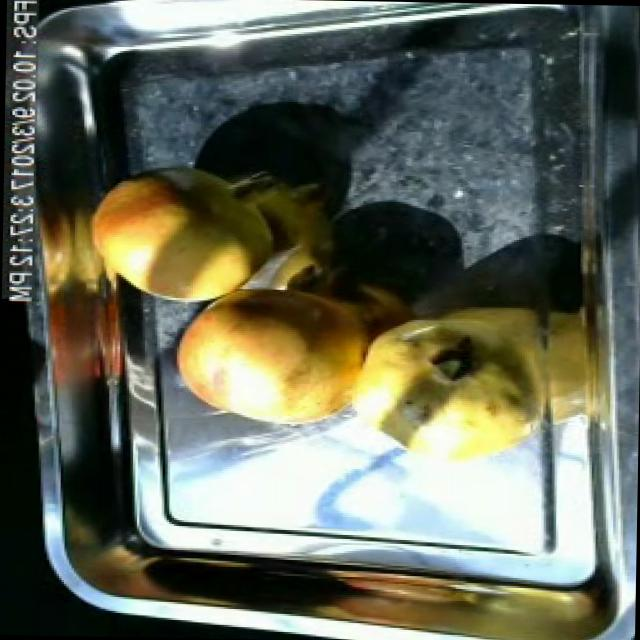fruit: (342, 298, 564, 482), (154, 271, 381, 437), (74, 156, 291, 314)
